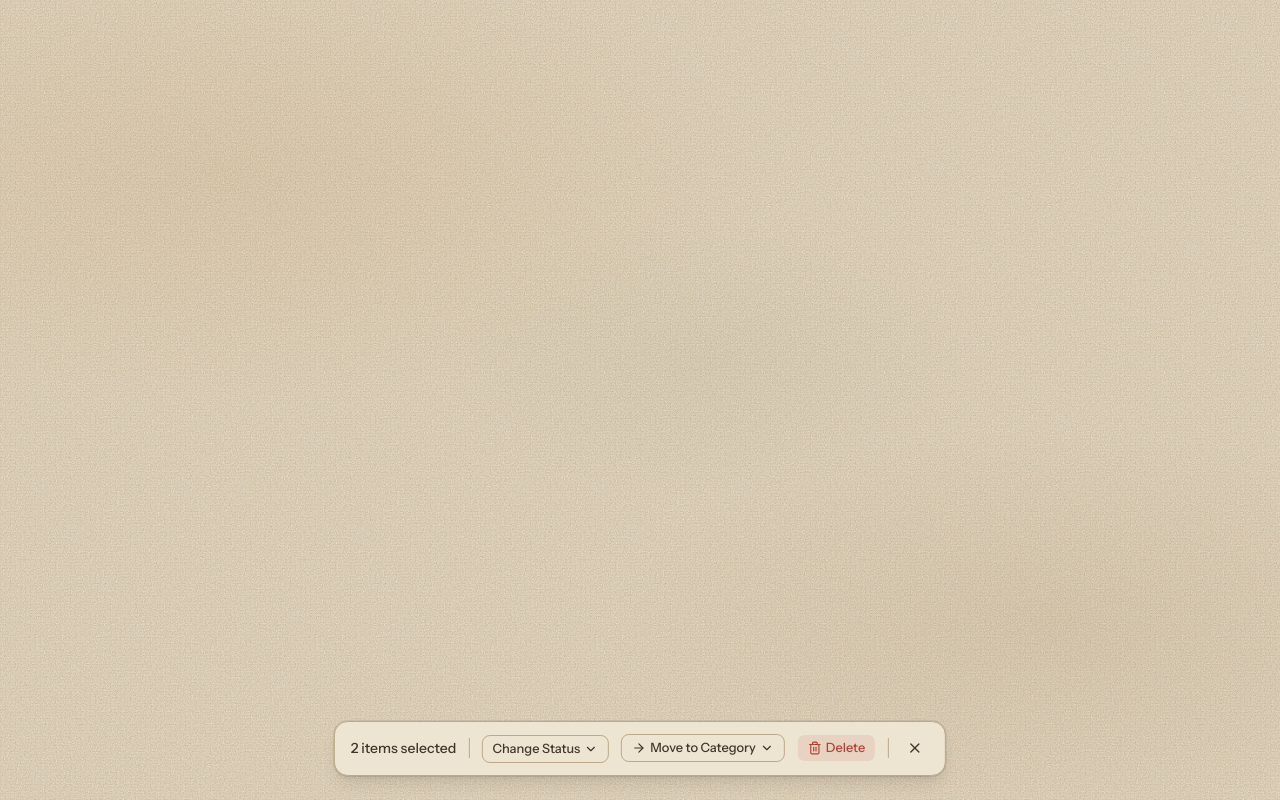
Test case: BulkActionBar › opens status menu when Change Status button is clicked
The width and height of the screenshot is (1280, 800).
Click the button "Change Status".
click(545, 749)  # box [481,735,609,763]
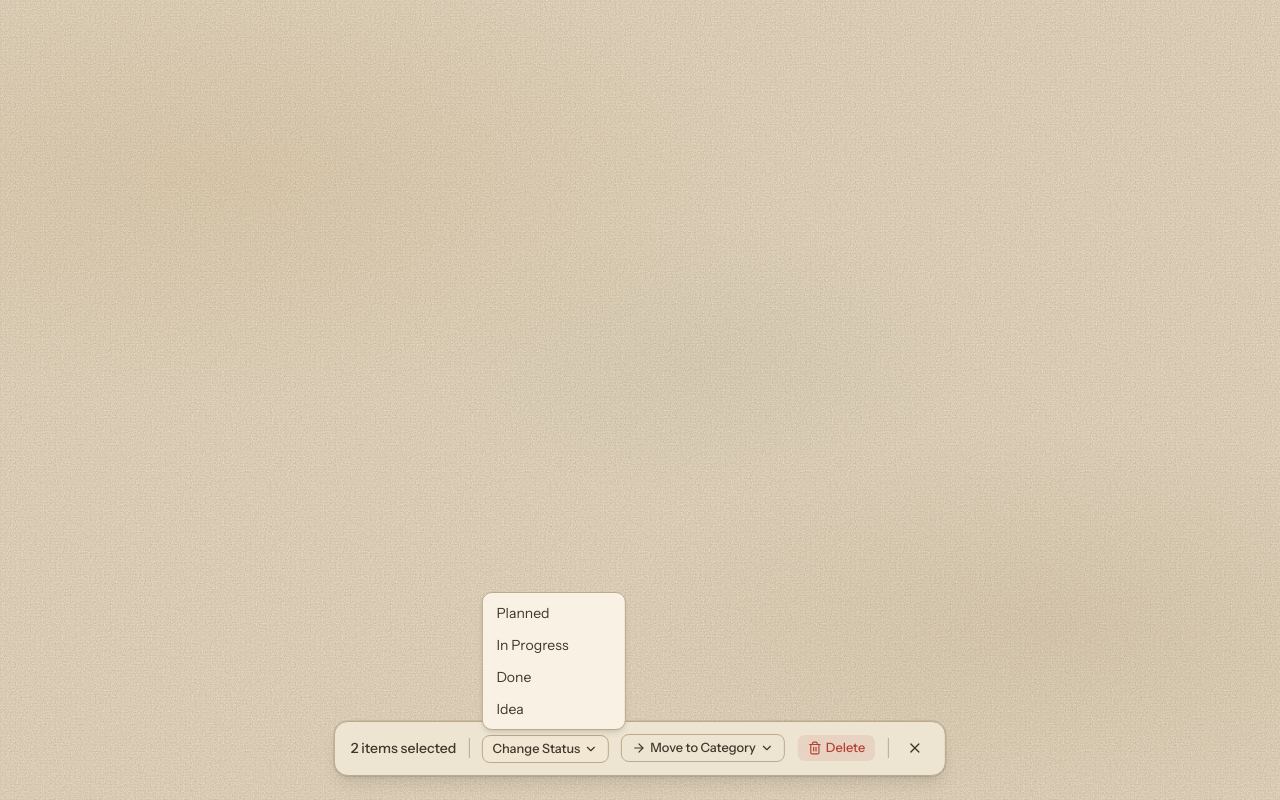
Result: the menu is shown at [481,592,625,730]
Result: the menu item "Planned" is shown at [486,597,620,629]
Result: the menu item "In Progress" is shown at [486,629,620,661]
